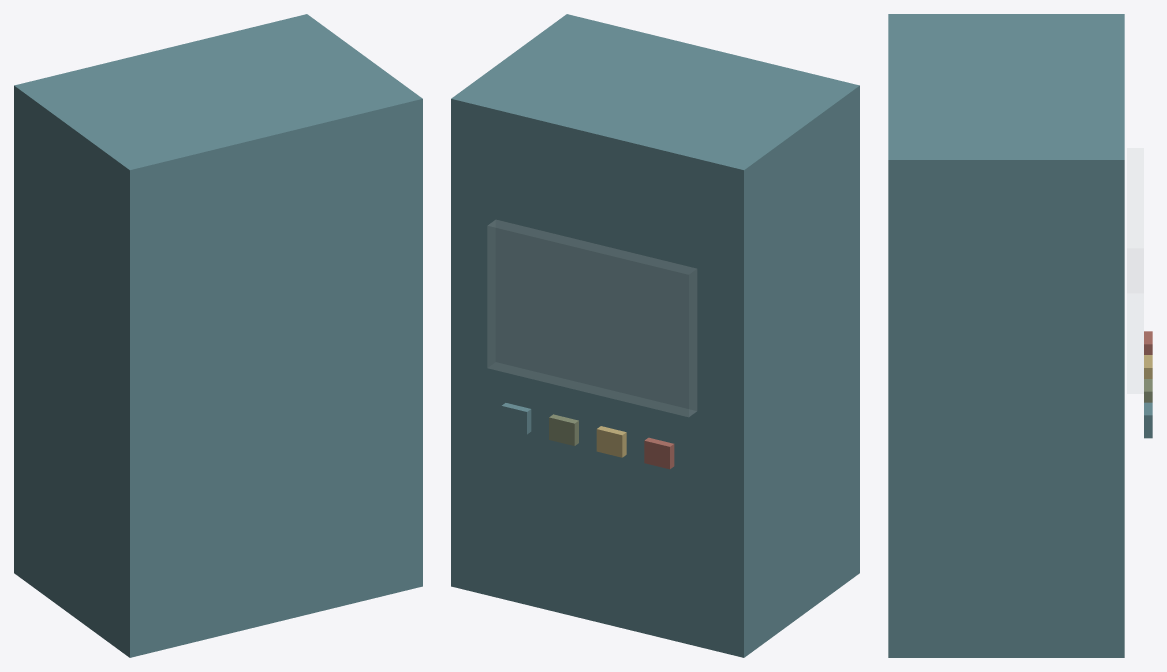
The model's file is iz2_mission_relay_core.glb.
3 views of the same model, side by side, from view 1: azimuth 30°, elevation 25°; view 2: azimuth 150°, elevation 25°; view 3: azimuth 270°, elevation 25° (orthographic). The views are drawn at different scales.
Visible parts, largest first — view 1: body; view 2: body, screen; view 3: body, screen.
Boxes of the visible parts, x1=… form: body: x1=14, y1=14, x2=422, y2=657; body: x1=451, y1=14, x2=859, y2=657; screen: x1=487, y1=220, x2=696, y2=416; body: x1=888, y1=14, x2=1152, y2=657; screen: x1=1127, y1=148, x2=1143, y2=393.
Bounding box in the file's own units: 0.8296 × 1.32 × 0.635.
